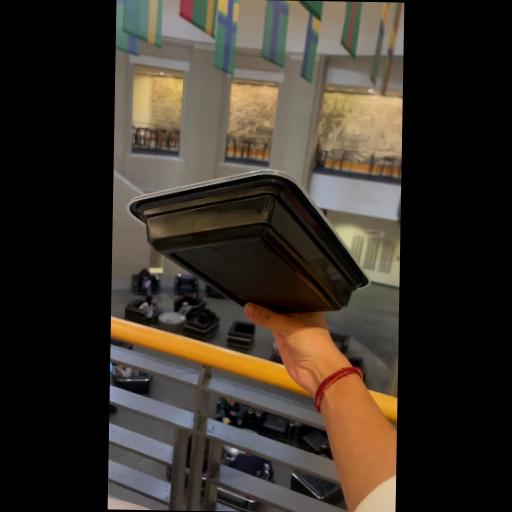rigid_plastic_container: (125, 158, 379, 336)
